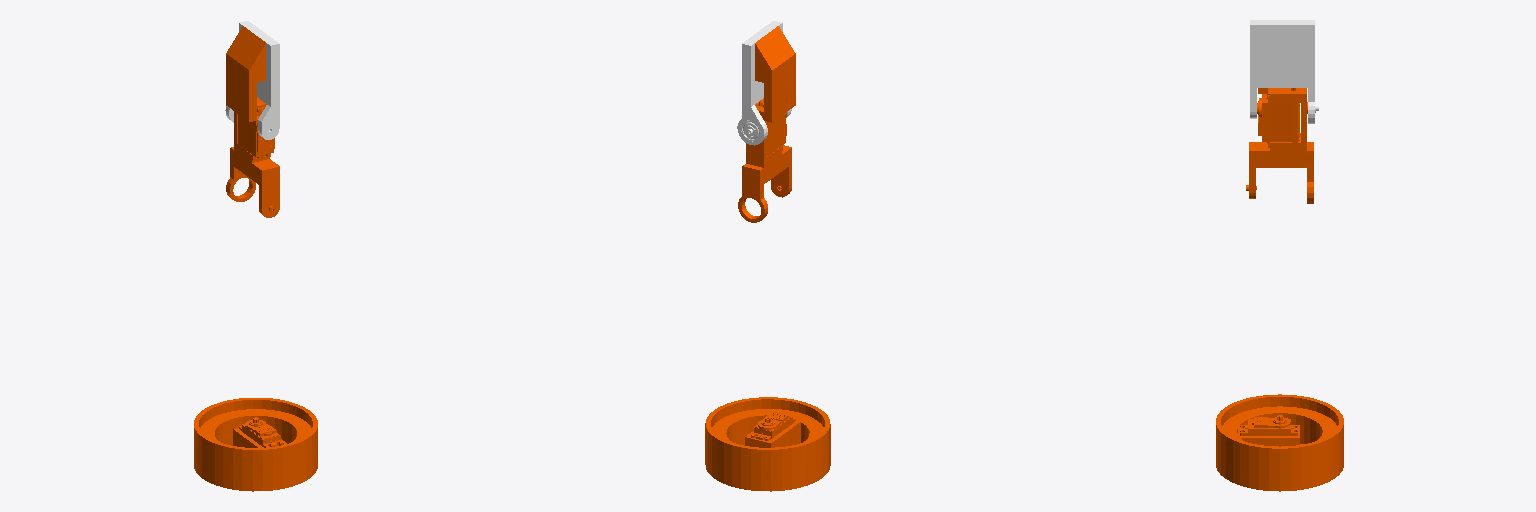
URDF robot description (myrobot_description):
<?xml version="1.0" encoding="utf-8"?>
<!-- This URDF was automatically created by SolidWorks to URDF Exporter! Originally created by Stephen Brawner (brawner@gmail.com) 
     Commit Version: 1.6.0-4-g7f85cfe  Build Version: 1.6.7995.38578
     For more information, please see http://wiki.ros.org/sw_urdf_exporter -->
<robot
  name="myrobot_description">

  <!-- Global Material Definitions -->
  <material name="orange">
    <color rgba="1.0 0.42 0.0 1.0"/>
  </material>

  <material name="white">
    <color rgba="1.0 1.0 1.0 1.0"/>
  </material>

  <link
    name="base_link">
    <inertial>
      <origin
        xyz="-7.9193E-11 -0.0016014 0.017944"
        rpy="0 0 0" />
      <mass
        value="0.42675" />
      <inertia
        ixx="0.0005265"
        ixy="-3.3358E-13"
        ixz="-5.5903E-13"
        iyy="0.00051117"
        iyz="4.5128E-07"
        izz="0.00092668" />
    </inertial>
    <visual>
      <origin
        xyz="0 0 0"
        rpy="0 0 0" />
      <geometry>
        <mesh
          filename="package://myrobot_description/meshes/base_link.STL" />
      </geometry>
      <material name="orange"/>
    </visual>
    <collision>
      <origin
        xyz="0 0 0"
        rpy="0 0 0" />
      <geometry>
        <mesh
          filename="package://myrobot_description/meshes/base_link.STL" />
      </geometry>
    </collision>
  </link>
  <link
    name="Link1">
    <inertial>
      <origin
        xyz="-2.48993806827025E-06 -3.22182262536969E-05 0.0271642940472743"
        rpy="0 0 0" />
      <mass
        value="0.262216178032436" />
      <inertia
        ixx="0.000288770392771685"
        ixy="2.04810102253144E-10"
        ixz="2.11668502786579E-10"
        iyy="0.0002875161116019"
        iyz="-2.57354557885949E-08"
        izz="0.000434288685452672" />
    </inertial>
    <visual>
      <origin
        xyz="0 0 0"
        rpy="0 0 0" />
      <geometry>
        <mesh
          filename="package://myrobot_description/meshes/Link1.STL" />
      </geometry>
      <material name="white"/>
    </visual>
    <collision>
      <origin
        xyz="0 0 0"
        rpy="0 0 0" />
      <geometry>
        <mesh
          filename="package://myrobot_description/meshes/Link1.STL" />
      </geometry>
    </collision>
  </link>
  <joint
    name="Joint1"
    type="revolute">
    <origin
      xyz="0 3.8106E-05 0.0495"
      rpy="0 0 0" />
    <parent
      link="base_link" />
    <child
      link="Link1" />
    <axis
      xyz="0 0 1" />
    <limit
      lower="-3.14"
      upper="3.14"
      effort="12"
      velocity="5" />
  </joint>
  <link
    name="Link2">
    <inertial>
      <origin
        xyz="0.0538413370060857 -2.10656170979151E-09 -0.00253255278449989"
        rpy="0 0 0" />
      <mass
        value="0.095315907620755" />
      <inertia
        ixx="2.87880584513634E-05"
        ixy="1.64496152864071E-12"
        ixz="6.85207118883652E-06"
        iyy="7.32411125799549E-05"
        iyz="4.49574634323387E-13"
        izz="5.07633269464637E-05" />
    </inertial>
    <visual>
      <origin
        xyz="0 0 0"
        rpy="0 0 0" />
      <geometry>
        <mesh
          filename="package://myrobot_description/meshes/Link2.STL" />
      </geometry>
      <material name="orange"/>
    </visual>
    <collision>
      <origin
        xyz="0 0 0"
        rpy="0 0 0" />
      <geometry>
        <mesh
          filename="package://myrobot_description/meshes/Link2.STL" />
      </geometry>
    </collision>
  </link>
  <joint
    name="Joint2"
    type="revolute">
    <origin
      xyz="0 -0.00068811 0.0704"
      rpy="1.5708 -1.5708 0" />
    <parent
      link="Link1" />
    <child
      link="Link2" />
    <axis
      xyz="0 0 1" />
    <limit
      lower="-3.14"
      upper="3.14"
      effort="2.5"
      velocity="5" />
  </joint>
  <link
    name="Link3">
    <inertial>
      <origin
        xyz="0.0524781943225279 -1.59401423172056E-08 -0.00219363255264805"
        rpy="0 0 0" />
      <mass
        value="0.0975200910300232" />
      <inertia
        ixx="2.95891252035946E-05"
        ixy="4.66269371854454E-13"
        ixz="7.92586386256351E-06"
        iyy="7.83797564145377E-05"
        iyz="-1.7698721510079E-13"
        izz="5.55929187863546E-05" />
    </inertial>
    <visual>
      <origin
        xyz="0 0 0"
        rpy="0 0 0" />
      <geometry>
        <mesh
          filename="package://myrobot_description/meshes/Link3.STL" />
      </geometry>
      <material name="white"/>
    </visual>
    <collision>
      <origin
        xyz="0 0 0"
        rpy="0 0 0" />
      <geometry>
        <mesh
          filename="package://myrobot_description/meshes/Link3.STL" />
      </geometry>
    </collision>
  </link>
  <joint
    name="Joint3"
    type="revolute">
    <origin
      xyz="0.082 0 -0.001"
      rpy="0 0 0" />
    <parent
      link="Link2" />
    <child
      link="Link3" />
    <axis
      xyz="0 0 1" />
    <limit
      lower="-3.14"
      upper="3.14"
      effort="12"
      velocity="5" />
  </joint>
  <link
    name="Link4">
    <inertial>
      <origin
        xyz="0.0819905431552108 0.00396064974324239 -0.00145094408938291"
        rpy="0 0 0" />
      <mass
        value="0.152167844385681" />
      <inertia
        ixx="4.43098616467402E-05"
        ixy="-2.55282292408061E-05"
        ixz="1.30468333376975E-06"
        iyy="0.000358872029653601"
        iyz="-7.77827054811303E-07"
        izz="0.000331430975437797" />
    </inertial>
    <visual>
      <origin
        xyz="0 0 0"
        rpy="0 0 0" />
      <geometry>
        <mesh
          filename="package://myrobot_description/meshes/Link4.STL" />
      </geometry>
      <material name="orange"/>
    </visual>
    <collision>
      <origin
        xyz="0 0 0"
        rpy="0 0 0" />
      <geometry>
        <mesh
          filename="package://myrobot_description/meshes/Link4.STL" />
      </geometry>
    </collision>
  </link>
  <joint
    name="Joint4"
    type="revolute">
    <origin
      xyz="0.0825 0 -0.001"
      rpy="0 0 0" />
    <parent
      link="Link3" />
    <child
      link="Link4" />
    <axis
      xyz="0 0 1" />
    <limit
      lower="-3.14"
      upper="3.14"
      effort="12"
      velocity="5" />
  </joint>
  <link
    name="Link5">
    <inertial>
      <origin
        xyz="0.0482893143441747 -0.00424320513863131 -0.00034467471522126"
        rpy="0 0 0" />
      <mass
        value="0.0685033308119085" />
      <inertia
        ixx="2.62897349154238E-05"
        ixy="1.96552403132734E-06"
        ixz="8.52900238237812E-07"
        iyy="6.88702494219954E-05"
        iyz="-1.044222885868E-07"
        izz="4.48991503582136E-05" />
    </inertial>
    <visual>
      <origin
        xyz="0 0 0"
        rpy="0 0 0" />
      <geometry>
        <mesh
          filename="package://myrobot_description/meshes/Link5.STL" />
      </geometry>
      <material name="white"/>
    </visual>
    <collision>
      <origin
        xyz="0 0 0"
        rpy="0 0 0" />
      <geometry>
        <mesh
          filename="package://myrobot_description/meshes/Link5.STL" />
      </geometry>
    </collision>
  </link>
  <joint
    name="Joint5"
    type="revolute">
    <origin
      xyz="0.0825 0 -0.001"
      rpy="0 0 0" />
    <parent
      link="Link4" />
    <child
      link="Link5" />
    <axis
      xyz="0 0 1" />
    <limit
      lower="-3.14"
      upper="3.14"
      effort="12"
      velocity="5" />
  </joint>

  <ros2_control name="FakeSystem" type="system">
    <hardware>
      <plugin>mock_components/GenericSystem</plugin>
    </hardware>
    <joint name="Joint1">
      <command_interface name="position" />
      <state_interface name="position">
        <param name="initial_value">0.0</param>
      </state_interface>
      <state_interface name="velocity"/>
    </joint>
    <joint name="Joint2">
      <command_interface name="position" />
      <state_interface name="position">
        <param name="initial_value">0.0</param>
      </state_interface>
      <state_interface name="velocity"/>
    </joint>
    <joint name="Joint3">
      <command_interface name="position" />
      <state_interface name="position">
        <param name="initial_value">0.0</param>
      </state_interface>
      <state_interface name="velocity"/>
    </joint>
    <joint name="Joint4">
      <command_interface name="position" />
      <state_interface name="position">
        <param name="initial_value">0.0</param>
      </state_interface>
      <state_interface name="velocity"/>
    </joint>
    <joint name="Joint5">
      <command_interface name="position" />
      <state_interface name="position">
        <param name="initial_value">0.0</param>
      </state_interface>
      <state_interface name="velocity"/>
    </joint>
  </ros2_control>
</robot>

--- What the picture shows (computed from the rendered views, not written in the file) ---
Views: 3 orthographic renders of the robot side by side, from view 1: azimuth 30°, elevation 25°; view 2: azimuth 150°, elevation 25°; view 3: azimuth 270°, elevation 25°.
Model myrobot_description with 6 links and 5 joints (5 revolute), rooted at base_link, posed all joints at 0.
Links seen in each view (by area): view 1: base_link, Link4, Link5; view 2: base_link, Link4, Link5; view 3: base_link, Link5, Link4.
Boxes of the visible links, left/top/right/bottom form: base_link: left=194, top=398, right=317, bottom=491; Link4: left=226, top=26, right=279, bottom=217; Link5: left=225, top=21, right=279, bottom=139; base_link: left=705, top=397, right=830, bottom=491; Link4: left=738, top=26, right=795, bottom=222; Link5: left=737, top=21, right=791, bottom=145; base_link: left=1216, top=394, right=1343, bottom=491; Link5: left=1250, top=20, right=1318, bottom=123; Link4: left=1246, top=88, right=1313, bottom=203.
Size in the robot's own frame: 0.12 by 0.1196 by 0.4569 metres.
Meshes: 6 distinct files referenced, 3 mesh visuals loaded (3 binary STL); not drawn: 3 (reference not matched to a file when rendering).
